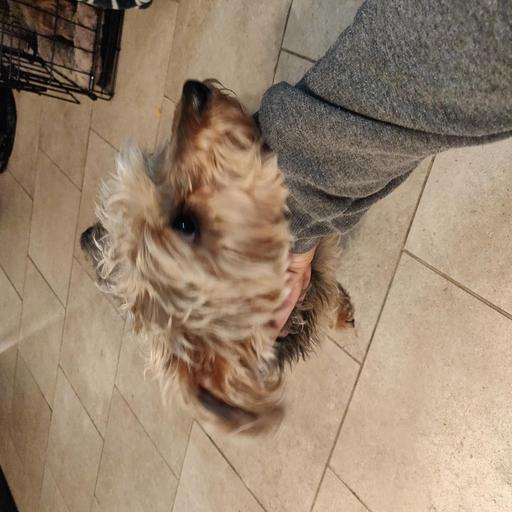dog: (59, 86, 340, 367)
